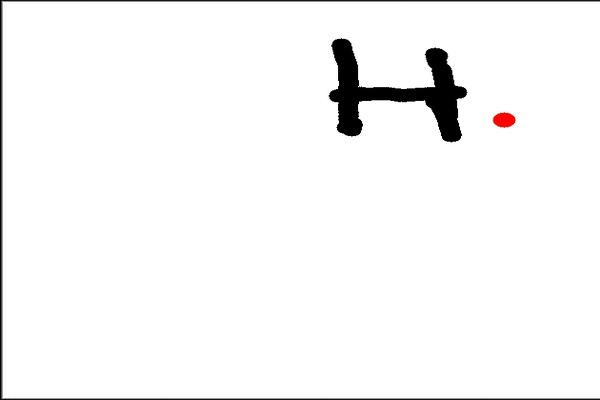H: (325, 30, 470, 157)
